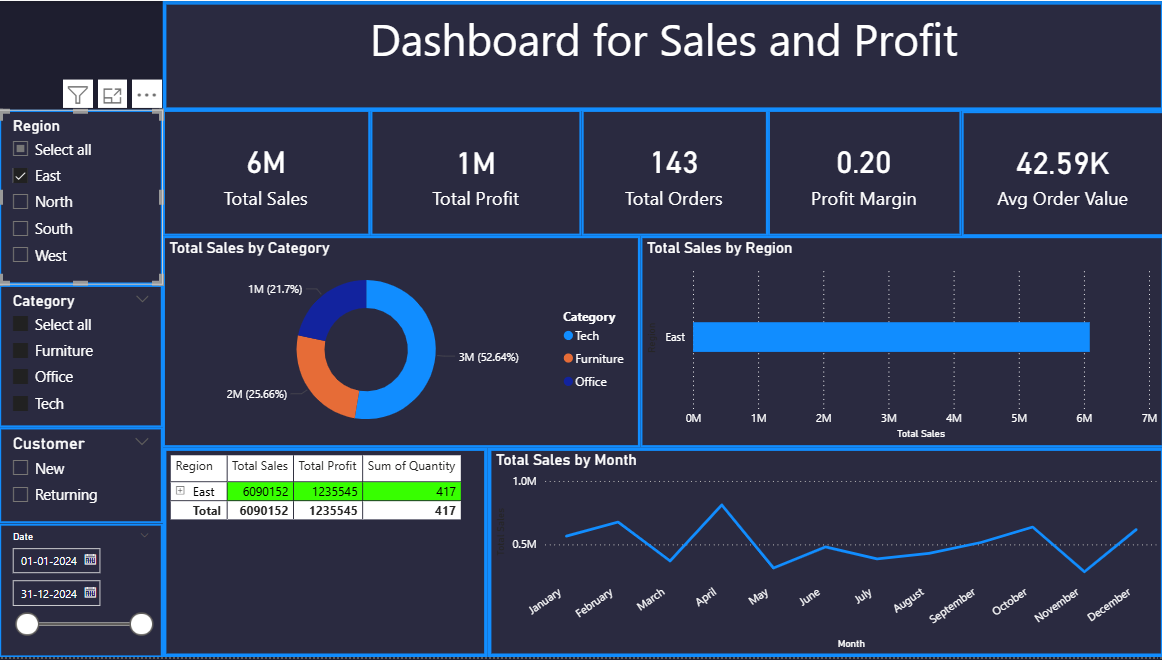

This screenshot's page, from the dashboard's own definition file:
{"tool":"powerbi","page":{"name":"Page 1","canvas":[1280,720],"ordinal":0},"visuals":[{"type":"card","fields":{"Values":["Sales_Data.Total Sales"]},"box":[179.8,119.4,227.8,138.6],"z":0},{"type":"card","fields":{"Values":["Sales_Data.Total Profit"]},"box":[407.5,119.4,231.9,138.6],"z":1000},{"type":"card","fields":{"Values":["Sales_Data.Profit Margin"]},"box":[843.9,119.4,212.7,138.6],"z":2000},{"type":"card","fields":{"Values":["Sales_Data.Total Orders"]},"box":[639.5,119.4,204.5,138.6],"z":3000},{"type":"card","fields":{"Values":["Sales_Data.Avg Order Value"]},"box":[1056.6,120.8,223.7,137.2],"z":4000},{"type":"clusteredBarChart","fields":{"Category":["Sales_Data.Region"],"Y":["Sales_Data.Total Sales"]},"box":[703.9,258,576.3,231.9],"z":5000},{"type":"donutChart","fields":{"Category":["Sales_Data.Category"],"Y":["Sales_Data.Total Sales"]},"box":[179.8,258,524.2,231.9],"z":6000},{"type":"lineChart","fields":{"Y":["Sales_Data.Total Sales"],"Category":["Sales_Data.Date.Variation.Date Hierarchy.Month"]},"box":[536.5,489.9,743.7,230.5],"z":7000},{"type":"pivotTable","fields":{"Rows":["Sales_Data.Region","Sales_Data.Product"],"Values":["Sales_Data.Total Sales","Sales_Data.Total Profit","Sum(Sales_Data.Quantity)"]},"box":[179.8,489.9,356.8,230.5],"z":8000},{"type":"slicer","fields":{"Values":["Sales_Data.Region"]},"box":[0,119.4,179.8,192.1],"z":9000},{"type":"slicer","fields":{"Values":["Sales_Data.Category"]},"box":[0,311.5,179.8,156.4],"z":10000},{"type":"slicer","fields":{"Values":["Sales_Data.Customer_Type"]},"box":[0,467.9,179.8,105.7],"z":11000},{"type":"slicer","fields":{"Values":["Sales_Data.Date"]},"box":[0,573.6,179.8,146.8],"z":12000},{"type":"textbox","box":[179.8,0,1100.5,120.8],"z":13000}]}

Visuals, with their boxes in screenshot pixels (x1, y1, x2, y2), scaled from the page's 1280x720 canvas onto the 1162x660 screenshot:
card - Sales_Data.Total Sales: bbox=(163, 109, 370, 236)
card - Sales_Data.Total Profit: bbox=(370, 109, 580, 236)
card - Sales_Data.Profit Margin: bbox=(766, 109, 959, 236)
card - Sales_Data.Total Orders: bbox=(581, 109, 766, 236)
card - Sales_Data.Avg Order Value: bbox=(959, 111, 1161, 236)
clusteredBarChart - Sales_Data.Region x Sales_Data.Total Sales: bbox=(639, 236, 1161, 449)
donutChart - Sales_Data.Category x Sales_Data.Total Sales: bbox=(163, 236, 639, 449)
lineChart - Sales_Data.Total Sales x Sales_Data.Date.Variation.Date Hierarchy.Month: bbox=(487, 449, 1161, 659)
pivotTable - Sales_Data.Region x Sales_Data.Product: bbox=(163, 449, 487, 659)
slicer - Sales_Data.Region: bbox=(0, 109, 163, 286)
slicer - Sales_Data.Category: bbox=(0, 286, 163, 429)
slicer - Sales_Data.Customer_Type: bbox=(0, 429, 163, 526)
slicer - Sales_Data.Date: bbox=(0, 526, 163, 659)
textbox: bbox=(163, 0, 1161, 111)
